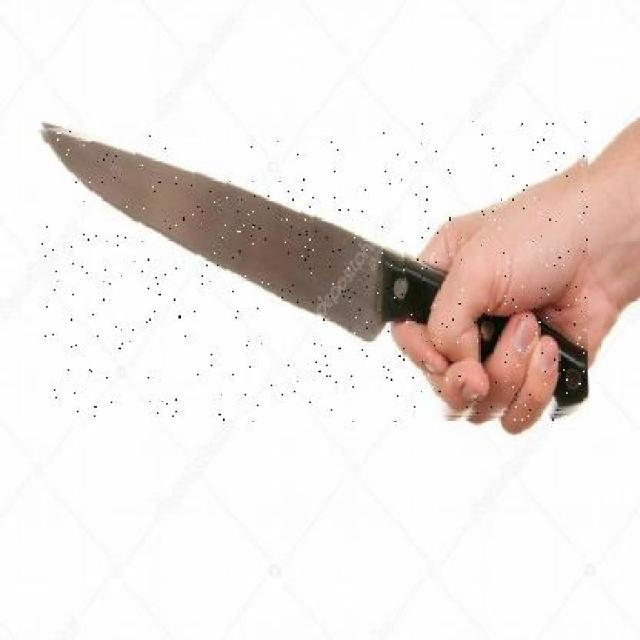knife: (39, 121, 588, 422)
